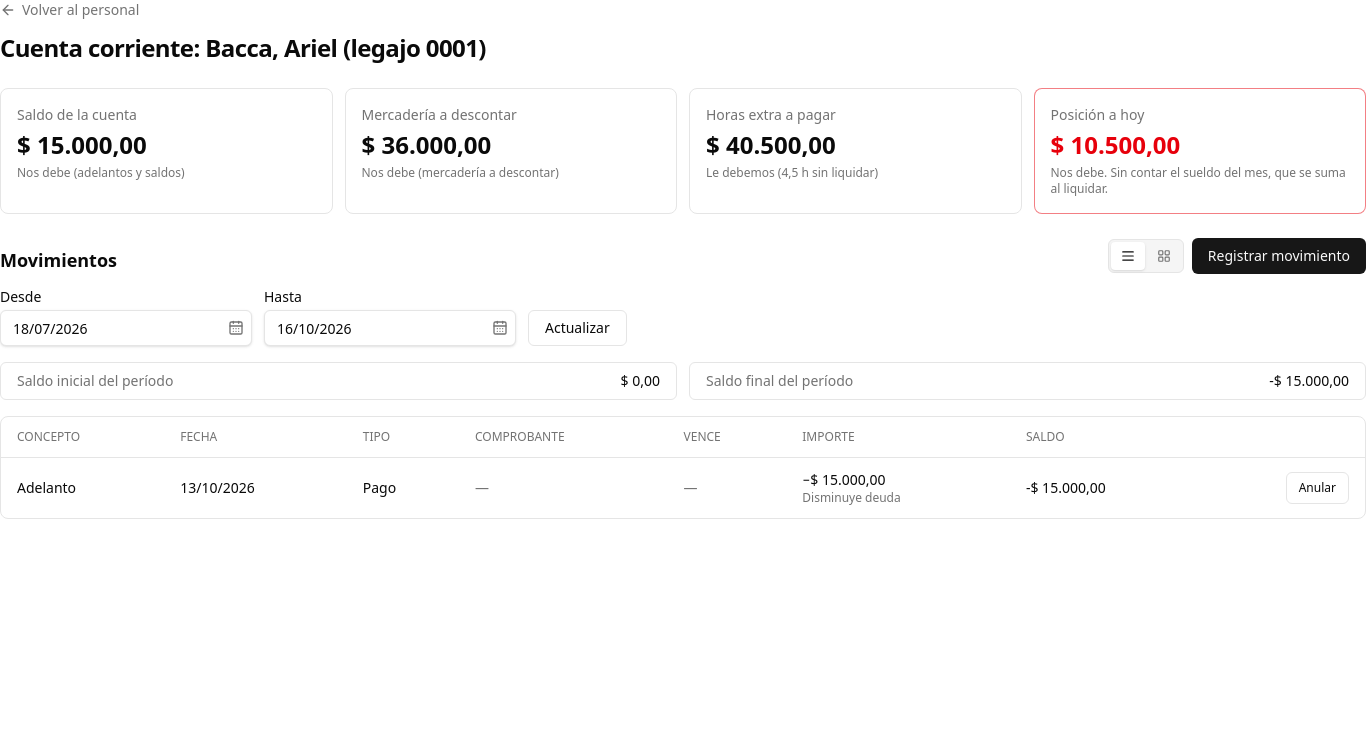
EmployeeAccountScreen › explains why an advance in a draft payroll is not reversed
Click the button "Anular": coordinates (1317, 488) [1286, 472, 1349, 504]
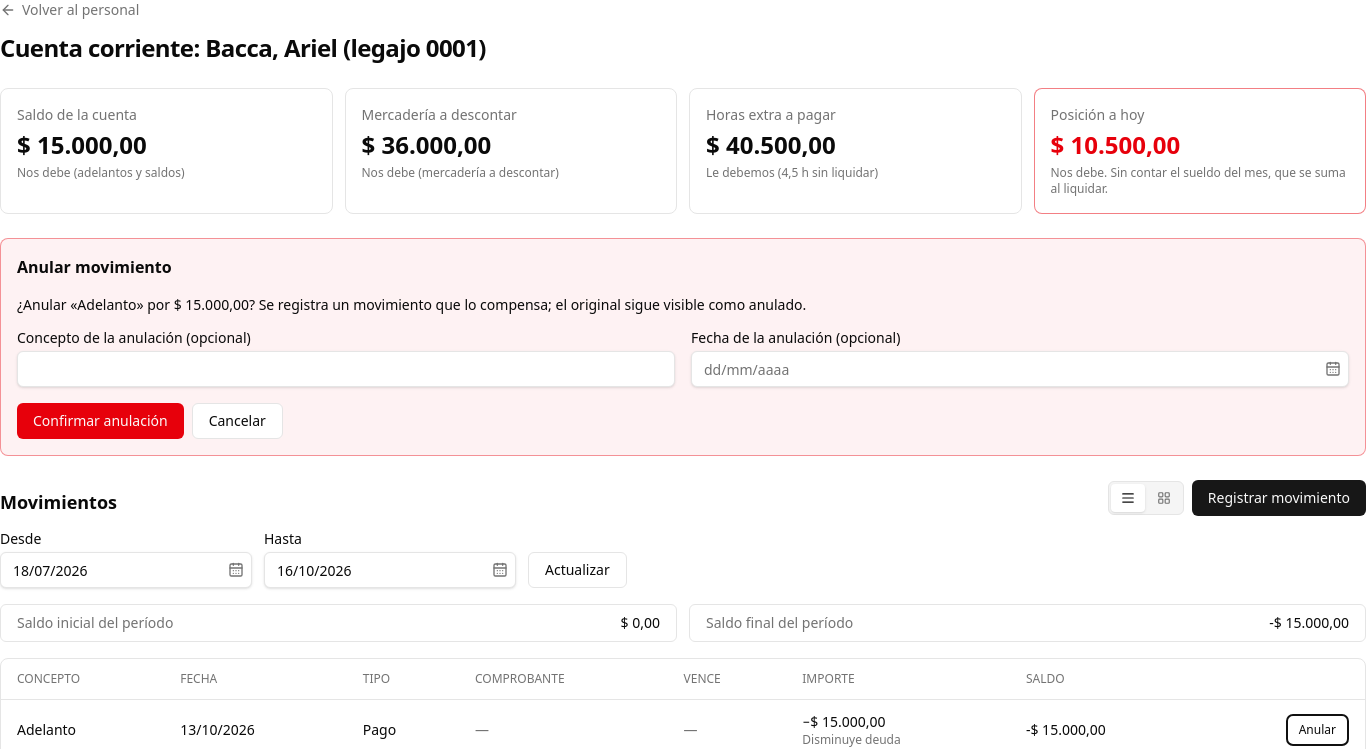
Click the button "Confirmar anulación": coordinates (100, 421) [17, 403, 184, 439]
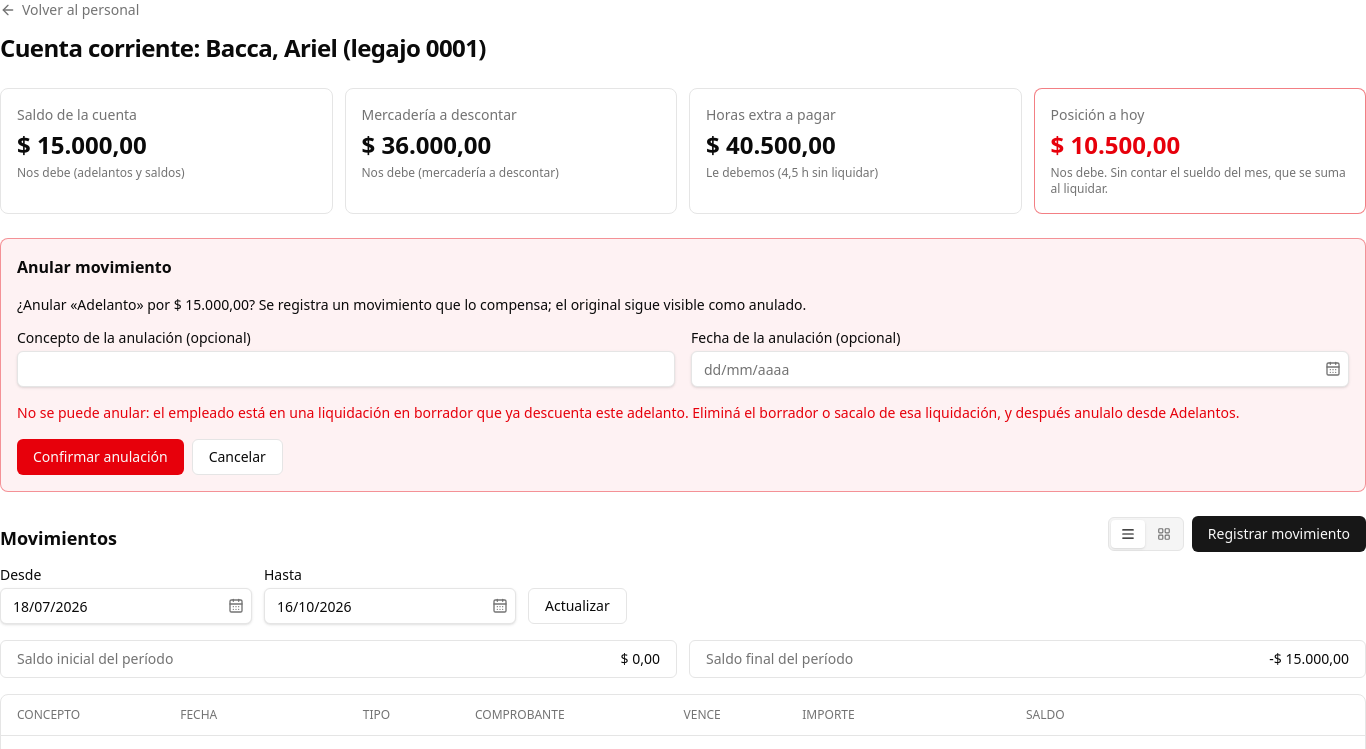
Expected: the text "está en una liquidación en borrador" is shown, [17, 403, 1239, 422]
